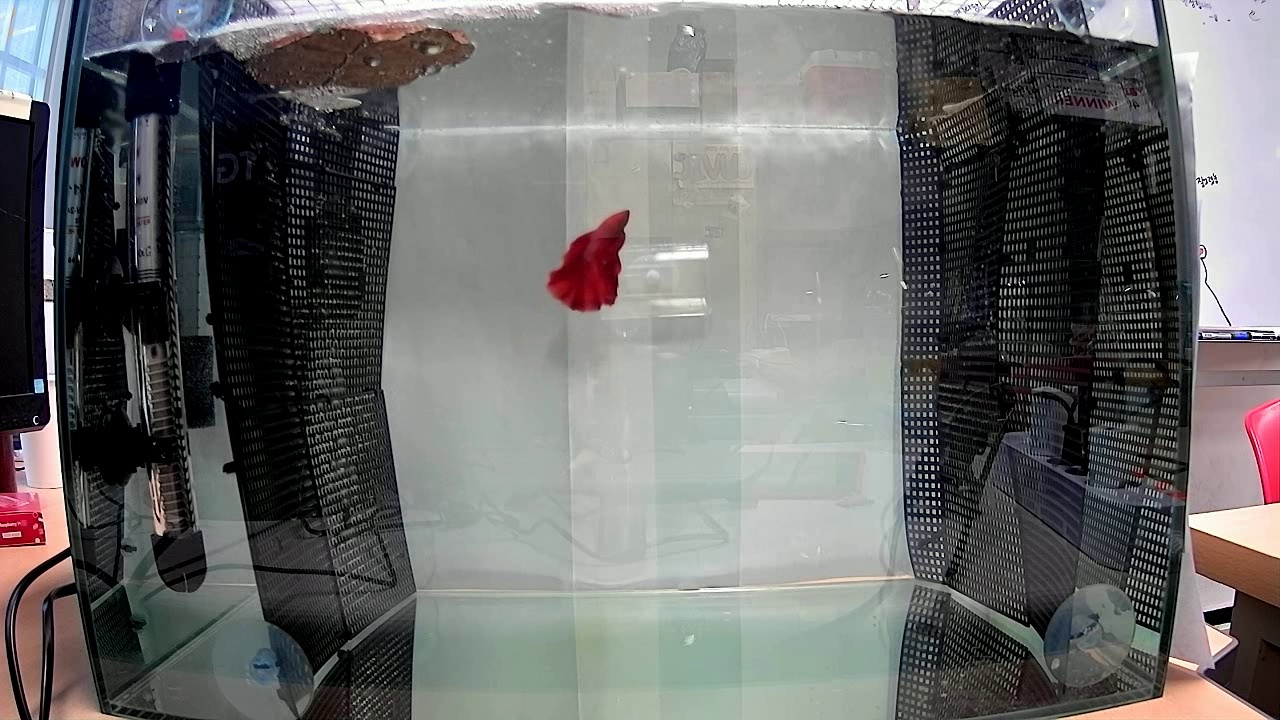fish: (548, 201, 631, 317)
